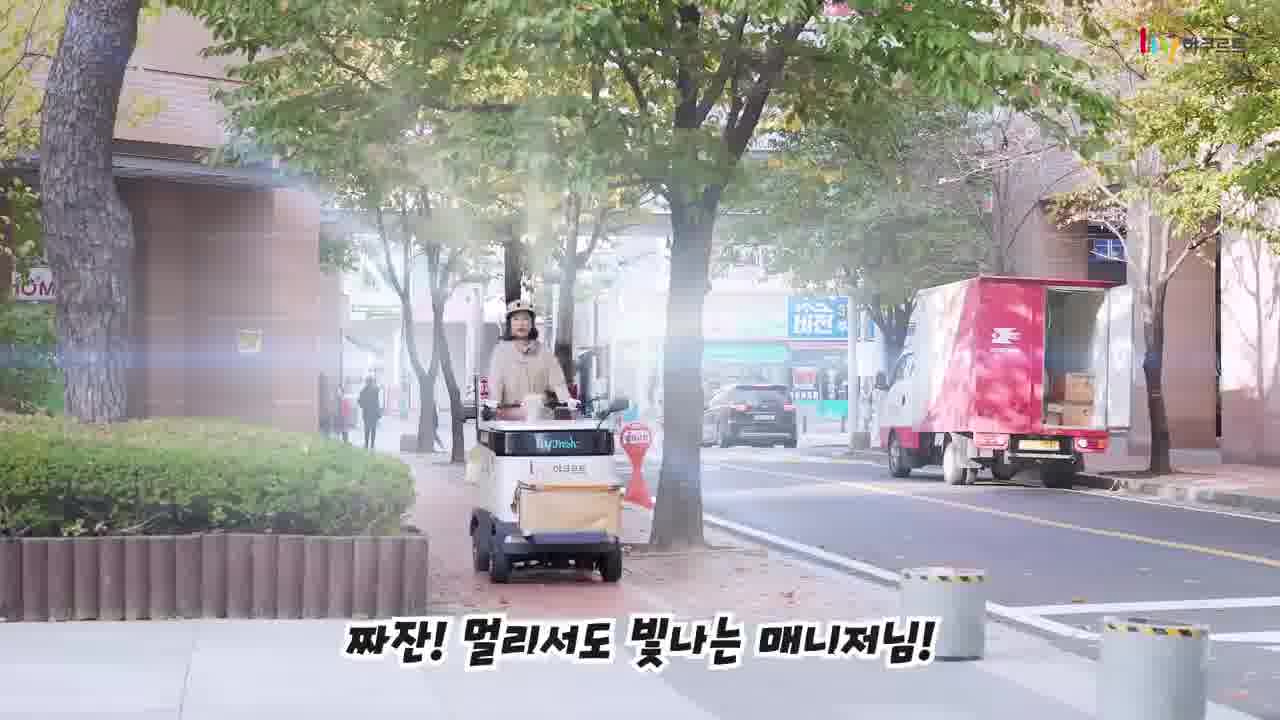Yakurut: (467, 298, 602, 420)
